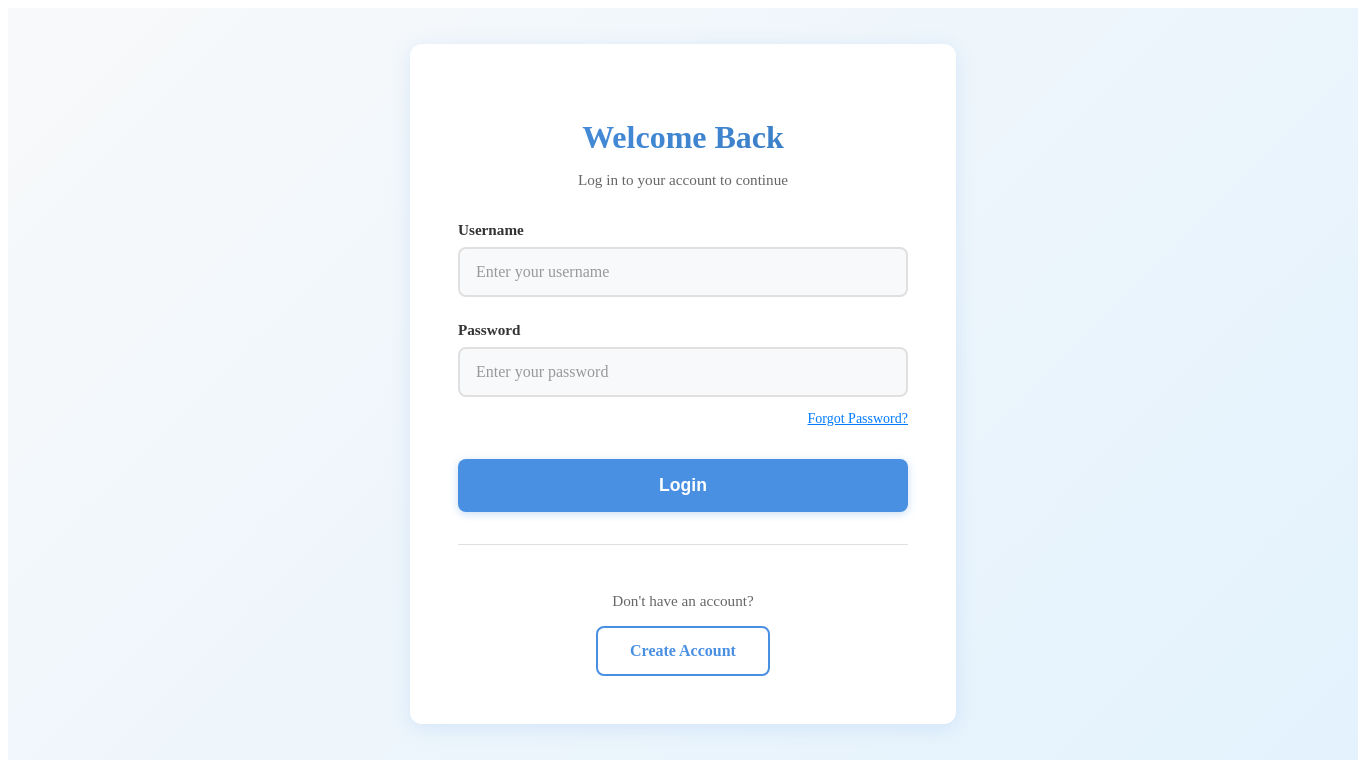
Test case: LoginPage › Form Submission - Failure › shows error message on failed login
The image size is (1366, 768).
Type "wronguser" into the field with placeholder "Enter your username". click: (683,272)
box: [458, 247, 908, 297]
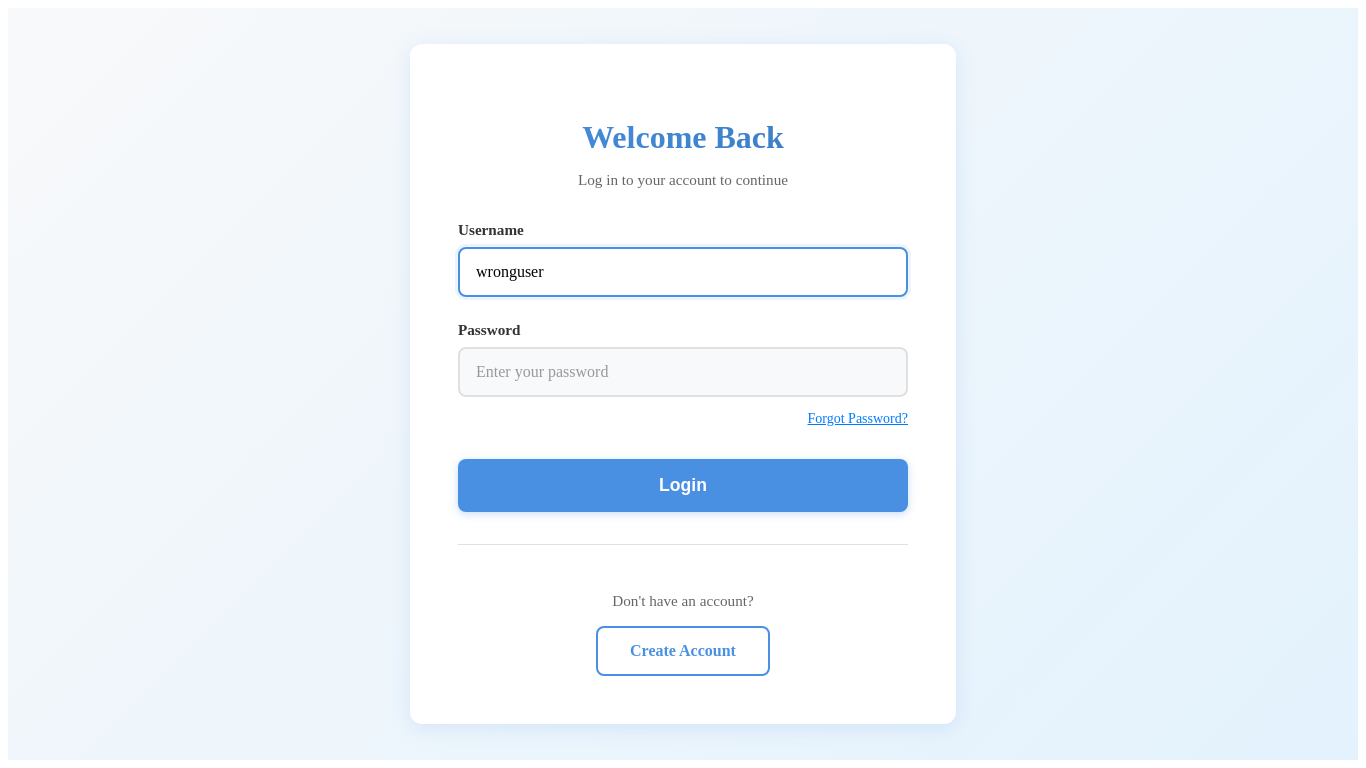
Type "wrongpass" into the password field with placeholder "Enter your password". click: (683,372)
box: [458, 347, 908, 397]
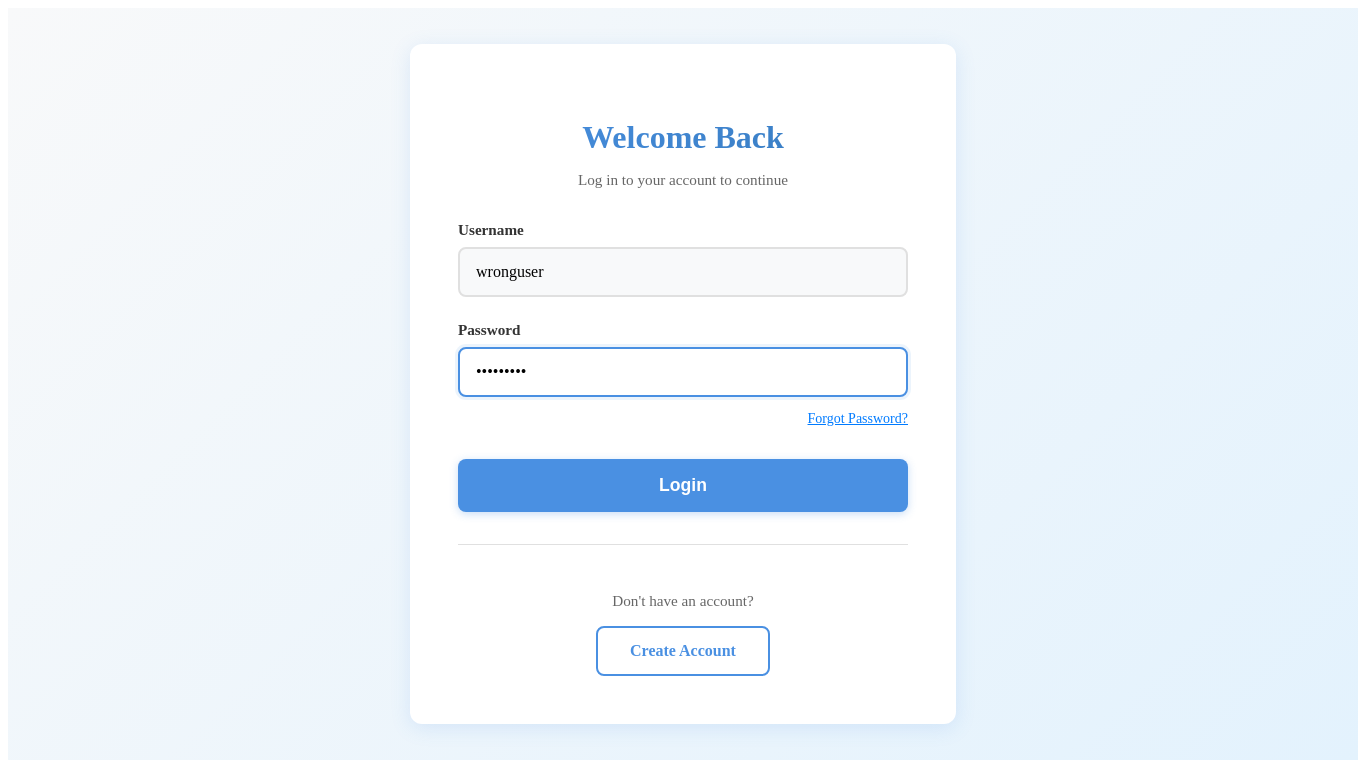
Click the button "Login". click: (683,485)
box: [458, 459, 908, 512]
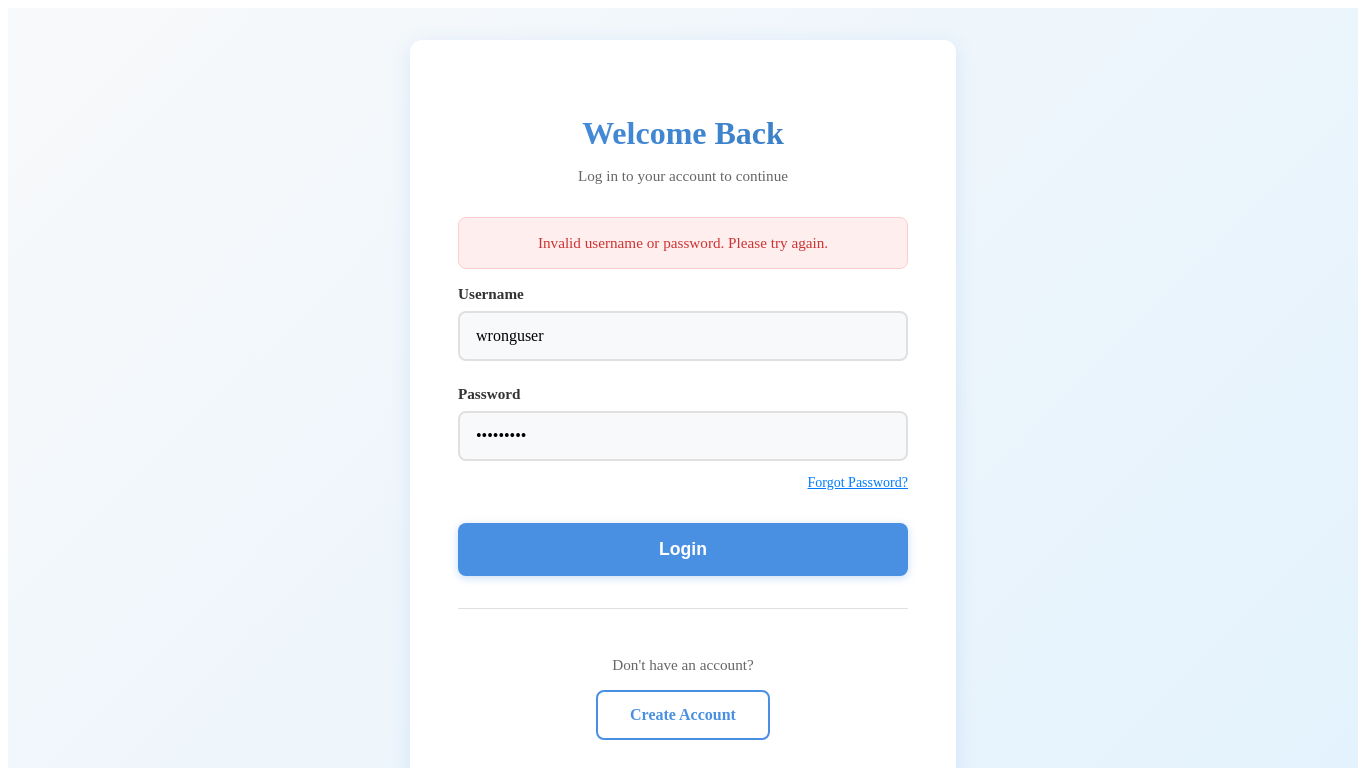
Now the text "Invalid username or password. Please try again." is shown, box [458, 217, 908, 269]
